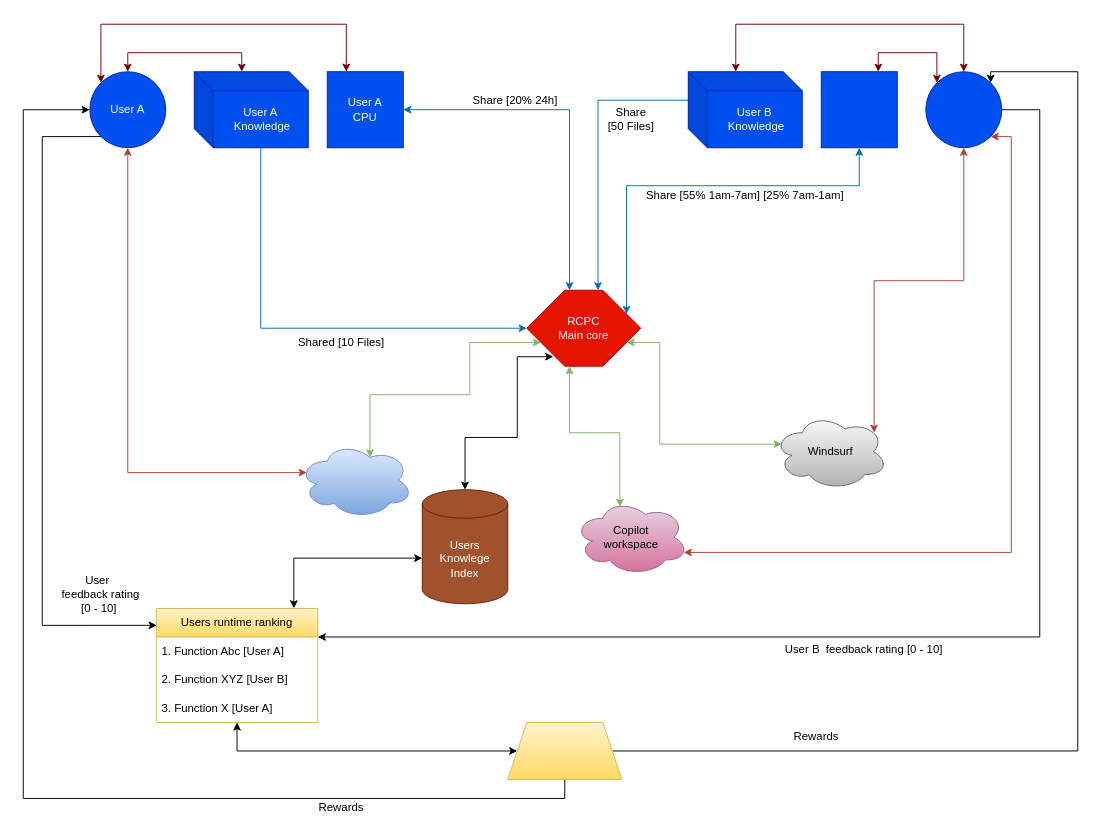
Some shapes in this 1102 by 839 pixel diagram are drawn without their labels. Here are the shapes that lost their labels. From the top down, the box of each, then its label:
(820, 71, 897, 148): User B CPU
(925, 71, 1002, 148): User B
(298, 441, 413, 518): Google Antigravity
(507, 722, 622, 779): MasterDev Contest
